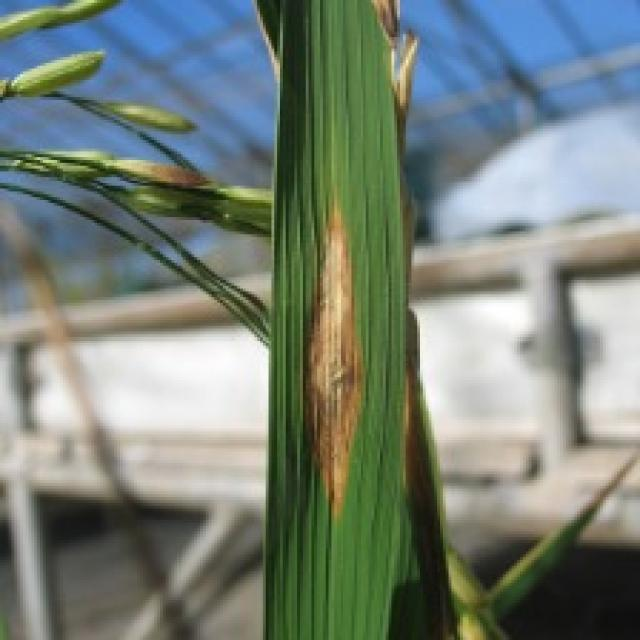Unhealthy: (302, 180, 363, 520)
